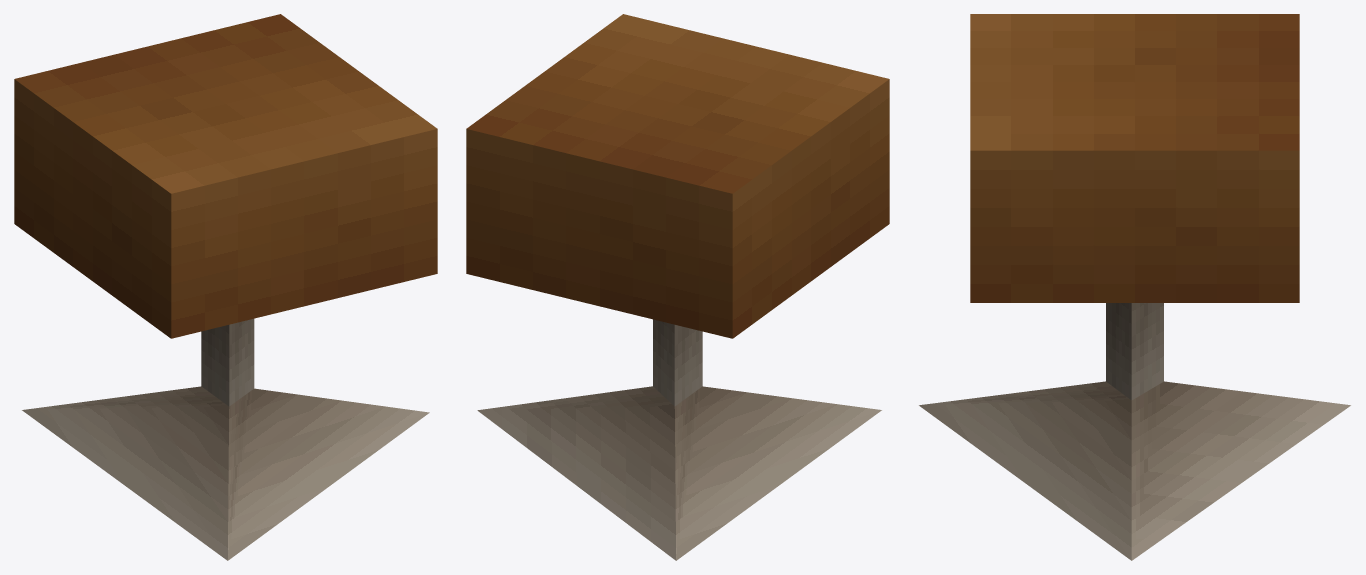
The picture shows the model from 3 angles, left to right: view 1: azimuth 30°, elevation 25°; view 2: azimuth 150°, elevation 25°; view 3: azimuth 270°, elevation 25°; orthographic projection. The views are drawn at different scales.
Parts seen in each view (by area): view 1: prim158-stool; view 2: prim158-stool; view 3: prim158-stool.
Part boxes in pixels (x1,y1,x2,y2): prim158-stool: [14, 14, 437, 560]; prim158-stool: [466, 14, 889, 560]; prim158-stool: [919, 14, 1350, 560].
Size of the model in its own units: 63 by 64 by 67.
Materials: 1 (1 with a texture image).
